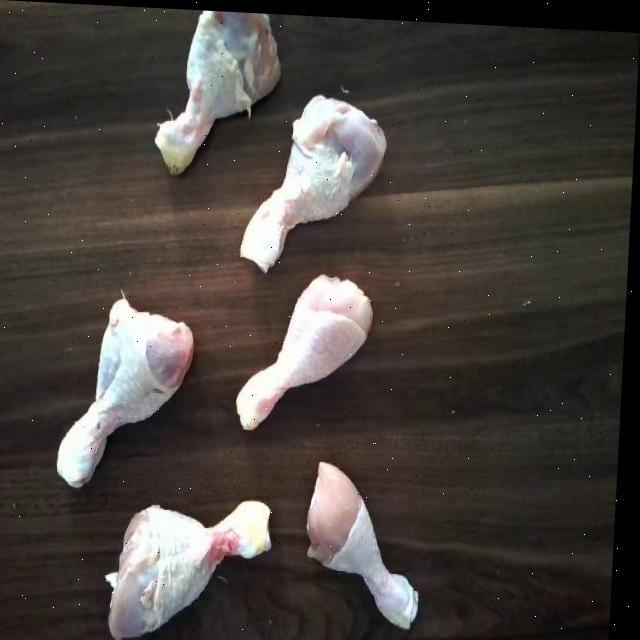leg: (49, 282, 204, 495), (230, 79, 386, 272), (110, 473, 283, 640), (238, 272, 386, 440), (301, 461, 441, 631), (152, 8, 286, 162)
